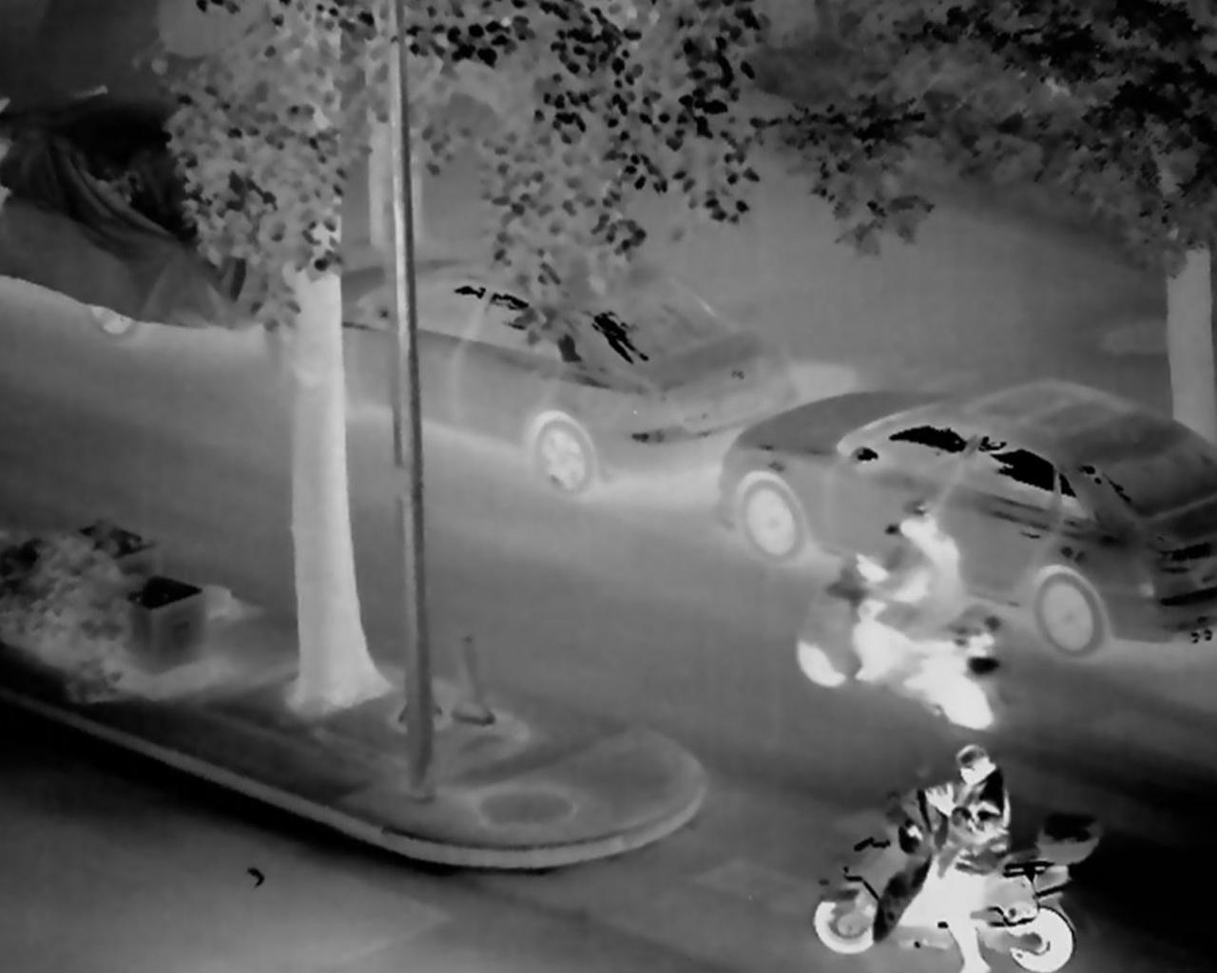person: (833, 487, 981, 706), (898, 747, 1030, 973)
